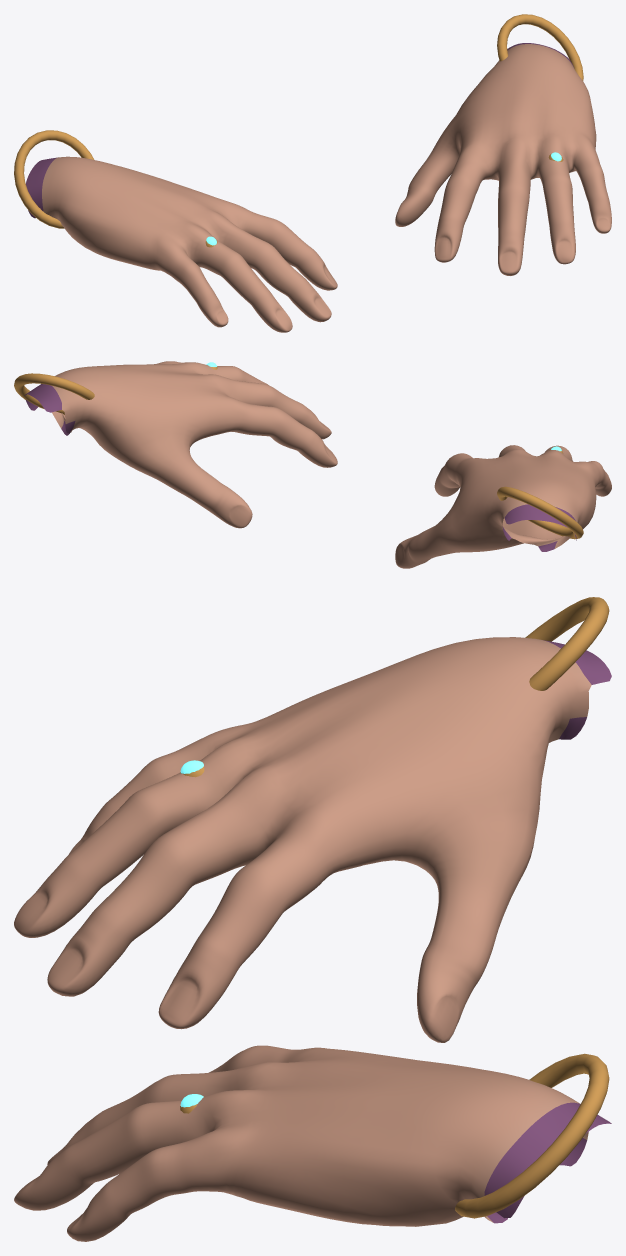
Rendered from char_hr_veronika_hands.glb.
3 renders of one model, top to bottom at view 1: azimuth 30°, elevation 25°; view 2: azimuth 150°, elevation 25°; view 3: azimuth 270°, elevation 25°, orthographic. The views are drawn at different scales.
Visible parts, largest first — view 1: char_hr_veronika_hands; view 2: char_hr_veronika_hands; view 3: char_hr_veronika_hands.
Boxes of the visible parts, <box> form: char_hr_veronika_hands: <box>14,14,611,332</box>; char_hr_veronika_hands: <box>14,361,611,568</box>; char_hr_veronika_hands: <box>14,597,611,1241</box>.
Size of the model in its own units: 0.3596 by 0.0883 by 0.1679.
4 materials, 4 textured.
